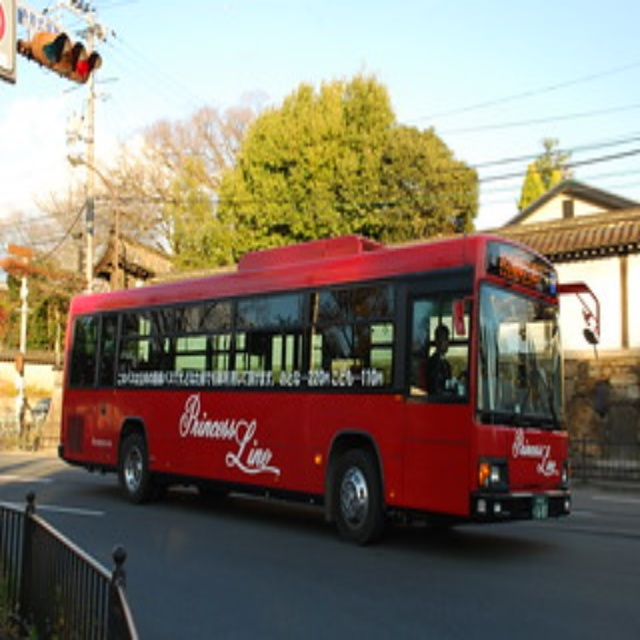Bus: (60, 233, 570, 547)
